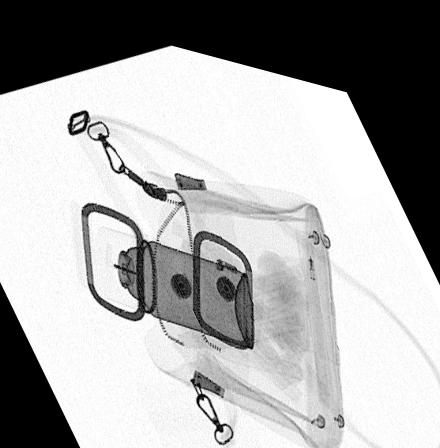Sprayer: (88, 219, 255, 338)
